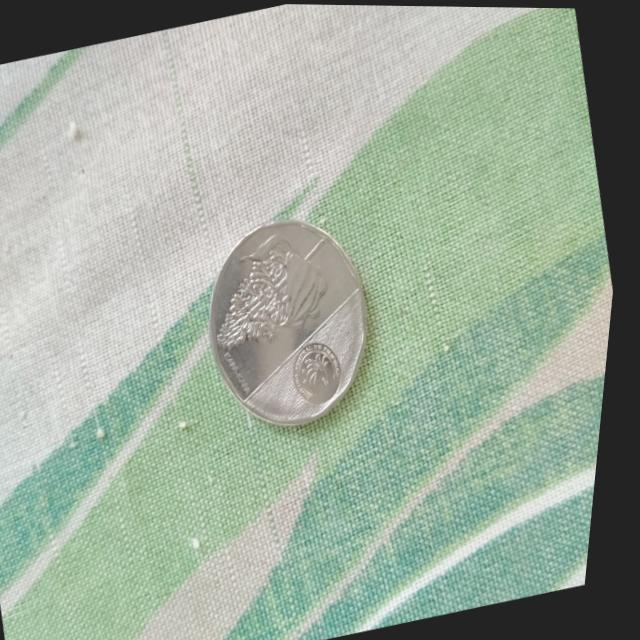10_New_Back: (191, 217, 365, 378)
